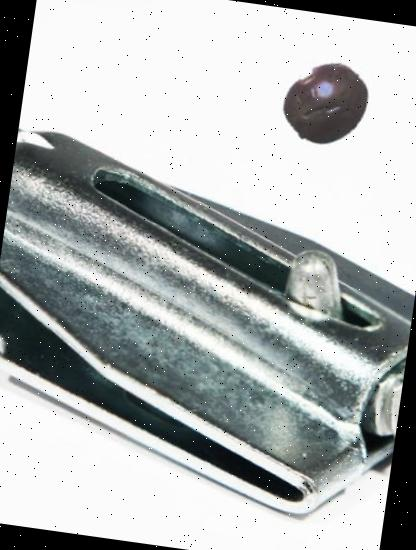Passion: (277, 53, 378, 154)
